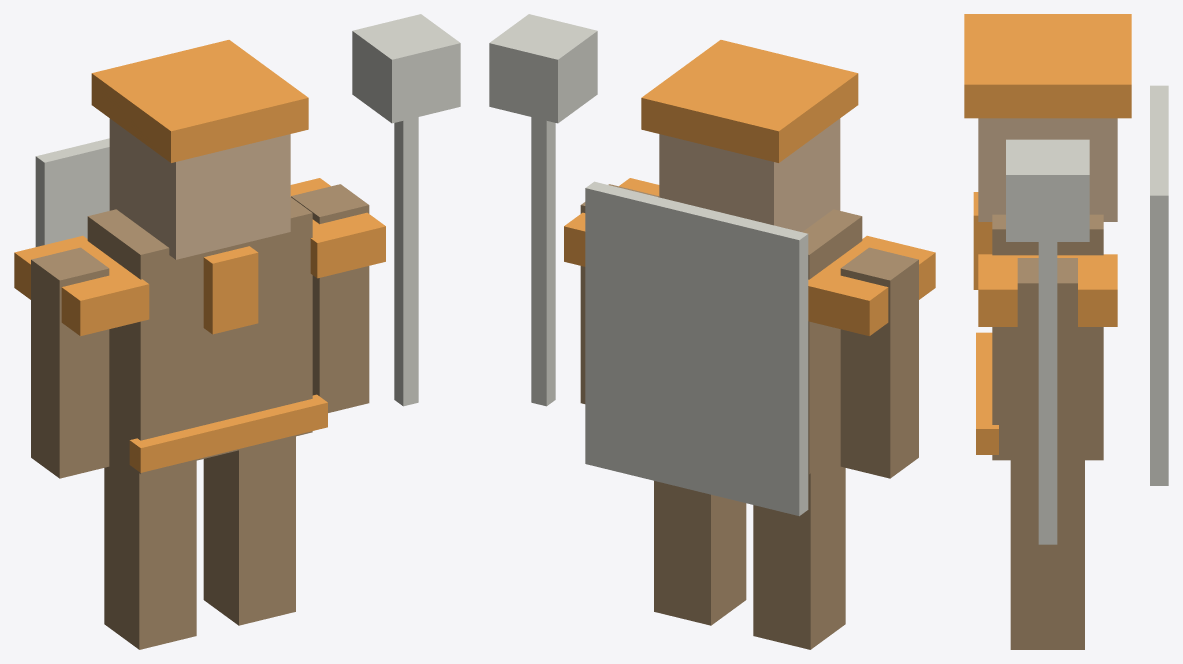
Rendered from 05_sable_voidrill_herald_near_stanza.glb.
3 views of the same model, side by side, from view 1: azimuth 30°, elevation 25°; view 2: azimuth 150°, elevation 25°; view 3: azimuth 270°, elevation 25° (orthographic). The views are drawn at different scales.
Visible parts, largest first — view 1: Sable Voidrill, Herald near Stanza; view 2: Sable Voidrill, Herald near Stanza; view 3: Sable Voidrill, Herald near Stanza.
Part boxes in pixels (x1,y1,x2,y2): Sable Voidrill, Herald near Stanza: (14, 14, 460, 649); Sable Voidrill, Herald near Stanza: (489, 14, 935, 649); Sable Voidrill, Herald near Stanza: (964, 14, 1168, 649).
Size of the model in its own units: 1.09 by 1.41 by 0.4654.
